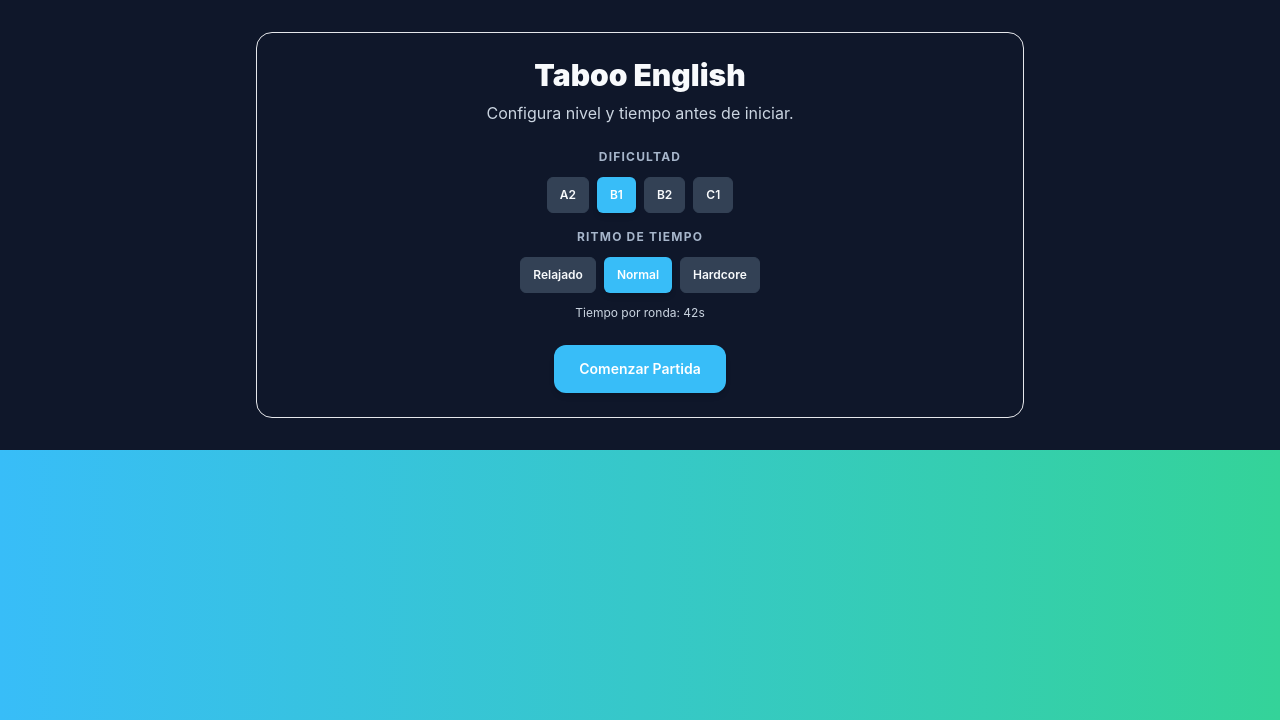
TabooEnglishView › renders title and forbidden words section
Click the button "Comenzar Partida" at (640, 369), box [554, 345, 726, 393]
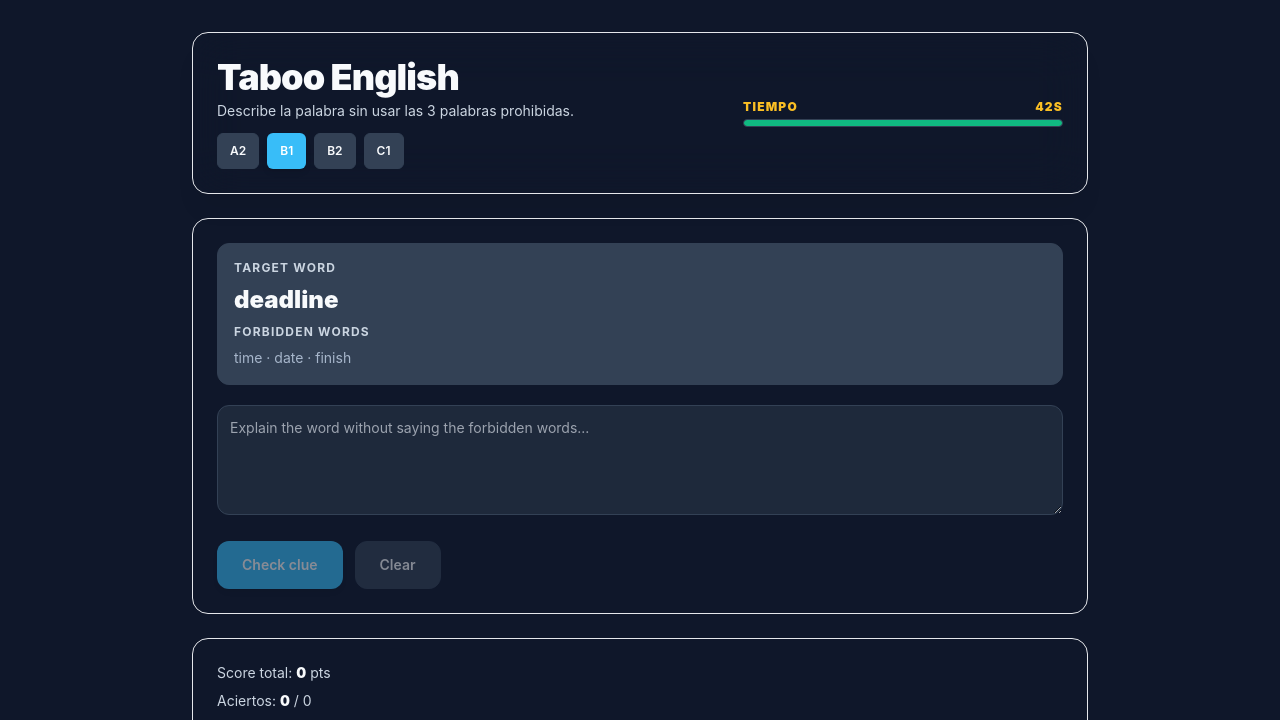
Expected: the heading "Taboo English" is shown, [217, 55, 459, 99]
Now the text "Forbidden words" is shown, box [234, 324, 370, 339]
